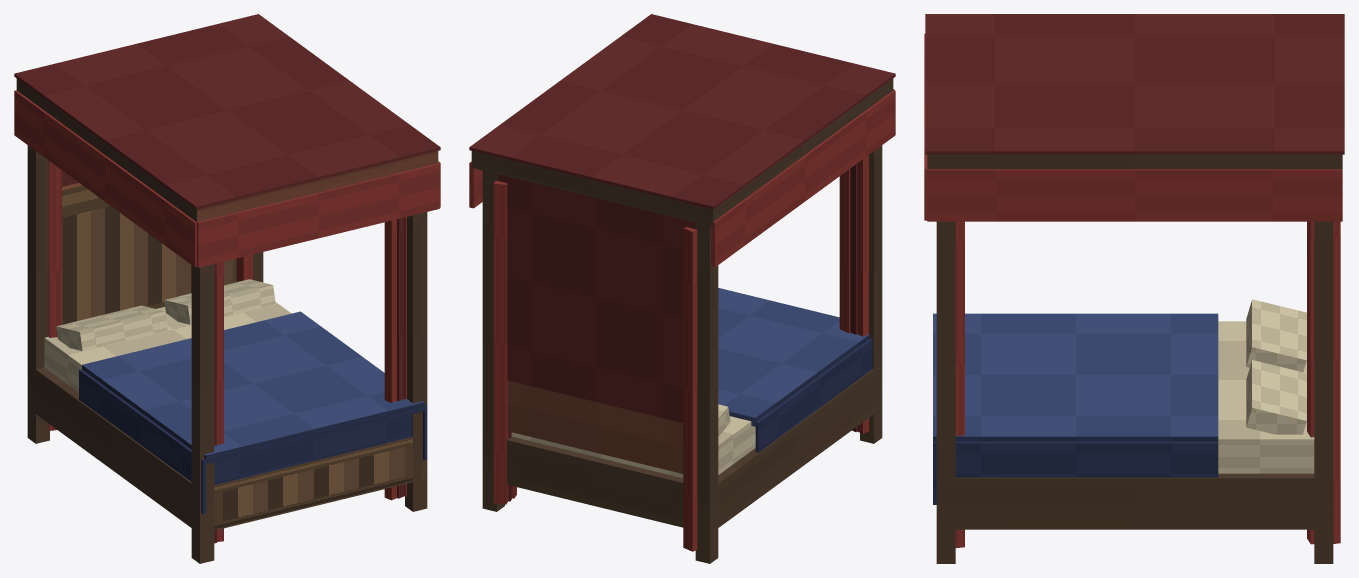
File: four-poster-bed.glb
3 renders of one model, left to right at view 1: azimuth 30°, elevation 25°; view 2: azimuth 150°, elevation 25°; view 3: azimuth 270°, elevation 25°, orthographic. The views are drawn at different scales.
Parts seen in each view (by area): view 1: four-poster-bed.001; view 2: four-poster-bed.001; view 3: four-poster-bed.001.
Part boxes in pixels (x1,y1,x2,y2): four-poster-bed.001: (14, 14, 440, 563); four-poster-bed.001: (469, 14, 895, 563); four-poster-bed.001: (924, 14, 1344, 563).
Size of the model in its own units: 1.73 by 2.44 by 2.22.
Materials: 1 (1 with a texture image).
